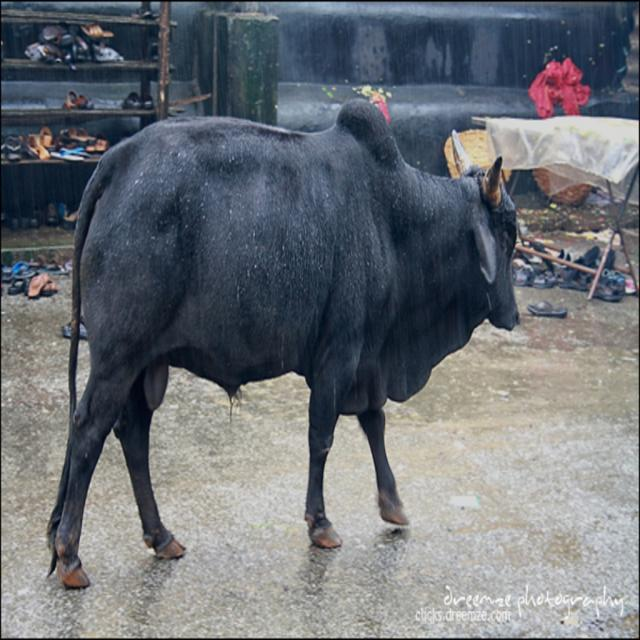Cattle: (46, 99, 523, 587)
